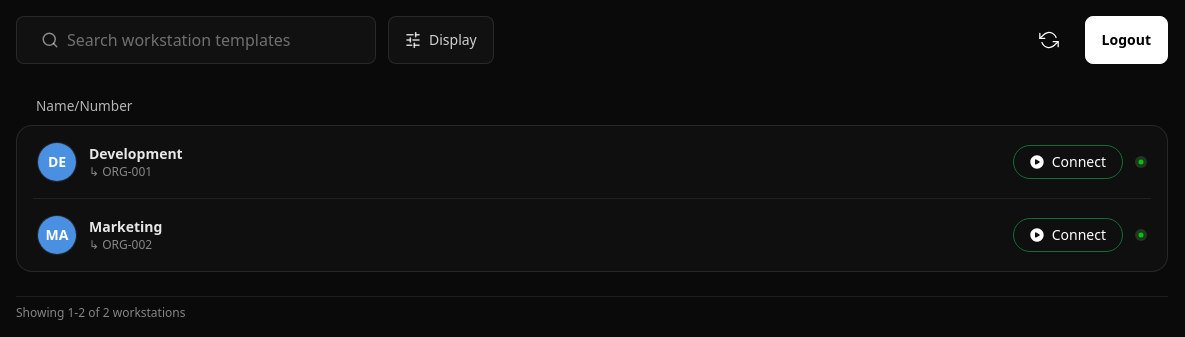
it: WorkstationsPage › filters workstation templates by search query
The image size is (1185, 337).
Expected: the text "Development" is shown, [89,144,183,164]
In the field with placeholder "Search workstation templates": (209, 40) [67,28,351,52], type "marketing"
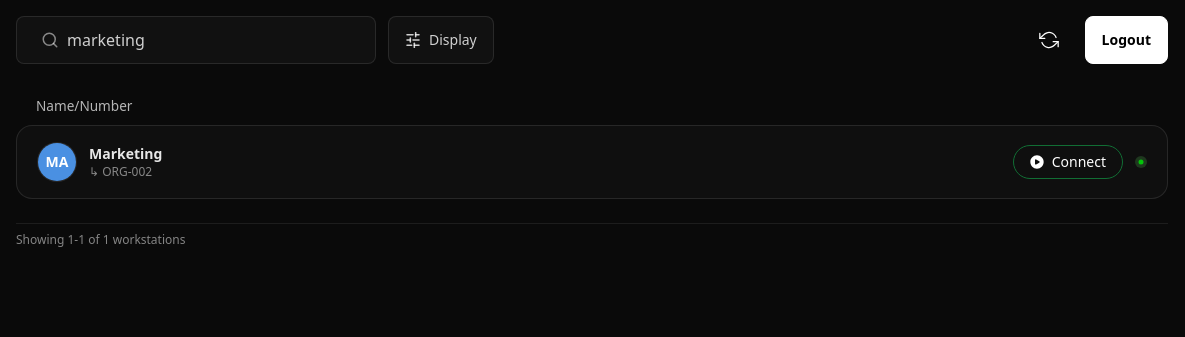
Expected: the text "Marketing" is shown, [89,144,162,164]
Now the text "Development" is gone
